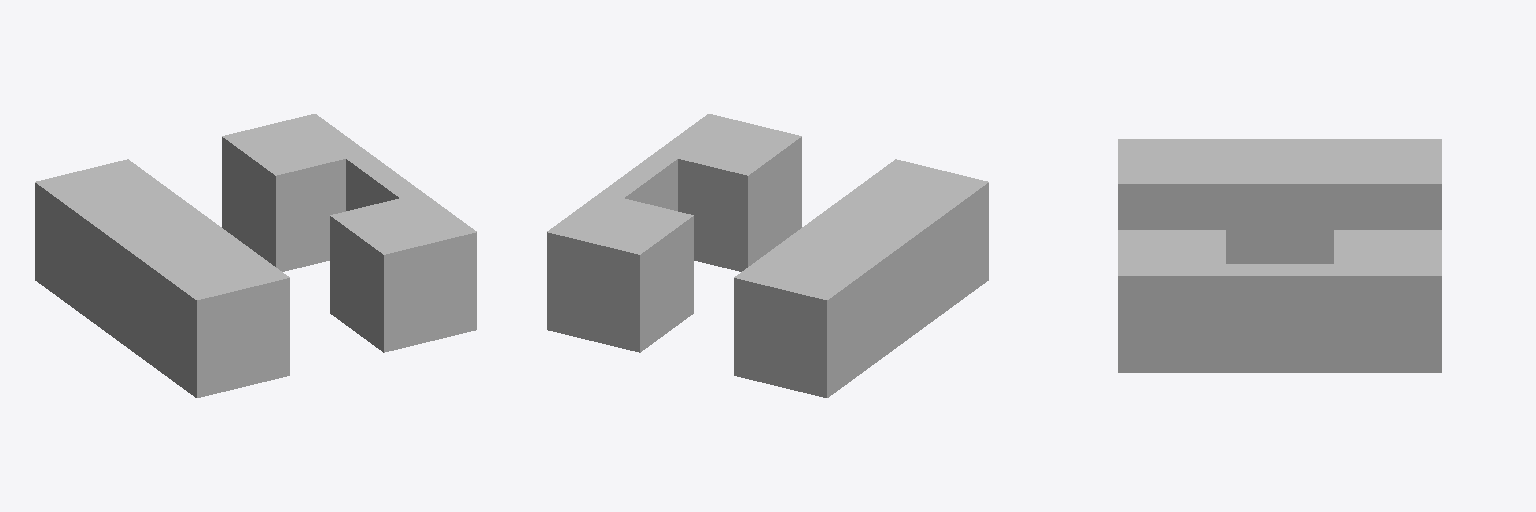
File: BeginningMaze.obj
3 views of the same model, side by side, from view 1: azimuth 30°, elevation 25°; view 2: azimuth 150°, elevation 25°; view 3: azimuth 270°, elevation 25° (orthographic).
Visible parts, largest first — view 1: Cube.002_Cube.003; view 2: Cube.002_Cube.003; view 3: Cube.002_Cube.003.
Boxes of the visible parts, x1=… form: Cube.002_Cube.003: x1=35, y1=114, x2=476, y2=397; Cube.002_Cube.003: x1=547, y1=114, x2=988, y2=397; Cube.002_Cube.003: x1=1118, y1=139, x2=1441, y2=372.
Size of the model in its own units: 24 by 8 by 24.